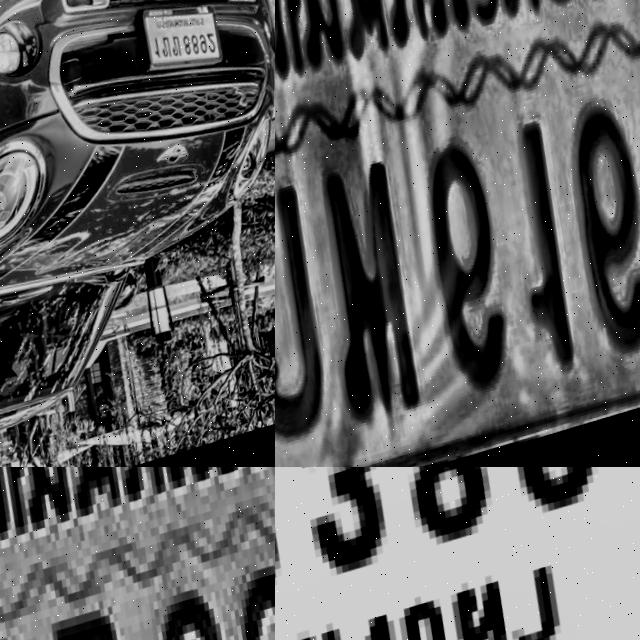license-plate: (275, 0, 640, 467), (275, 467, 640, 640), (0, 467, 275, 640), (135, 0, 235, 95)
